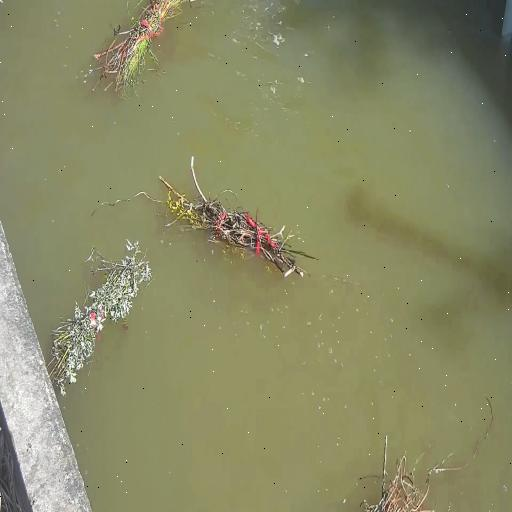twig: (160, 156, 315, 277), (49, 241, 152, 395), (93, 0, 183, 95), (362, 436, 469, 512), (473, 398, 493, 457)
